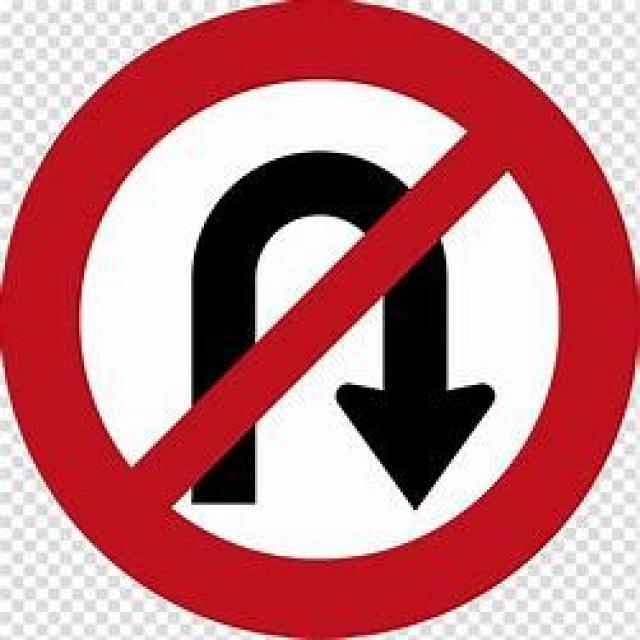u turn prohibited: (20, 21, 616, 620)
